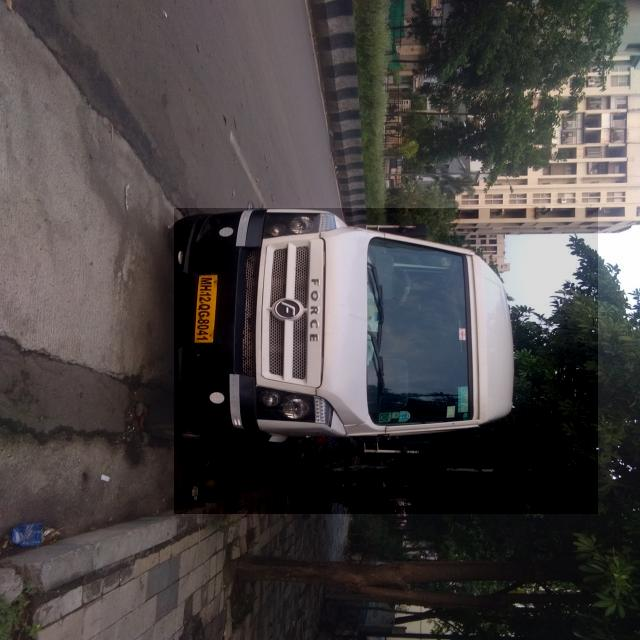Travller: (174, 208, 598, 514)
